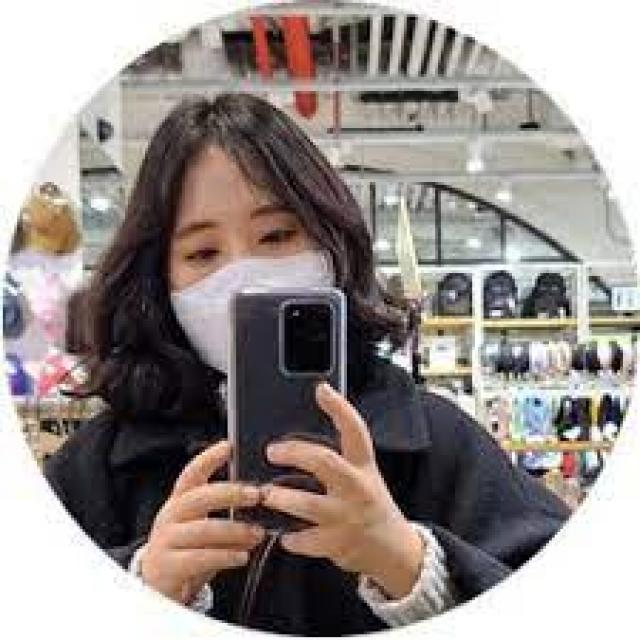Phone: (230, 288, 344, 514)
